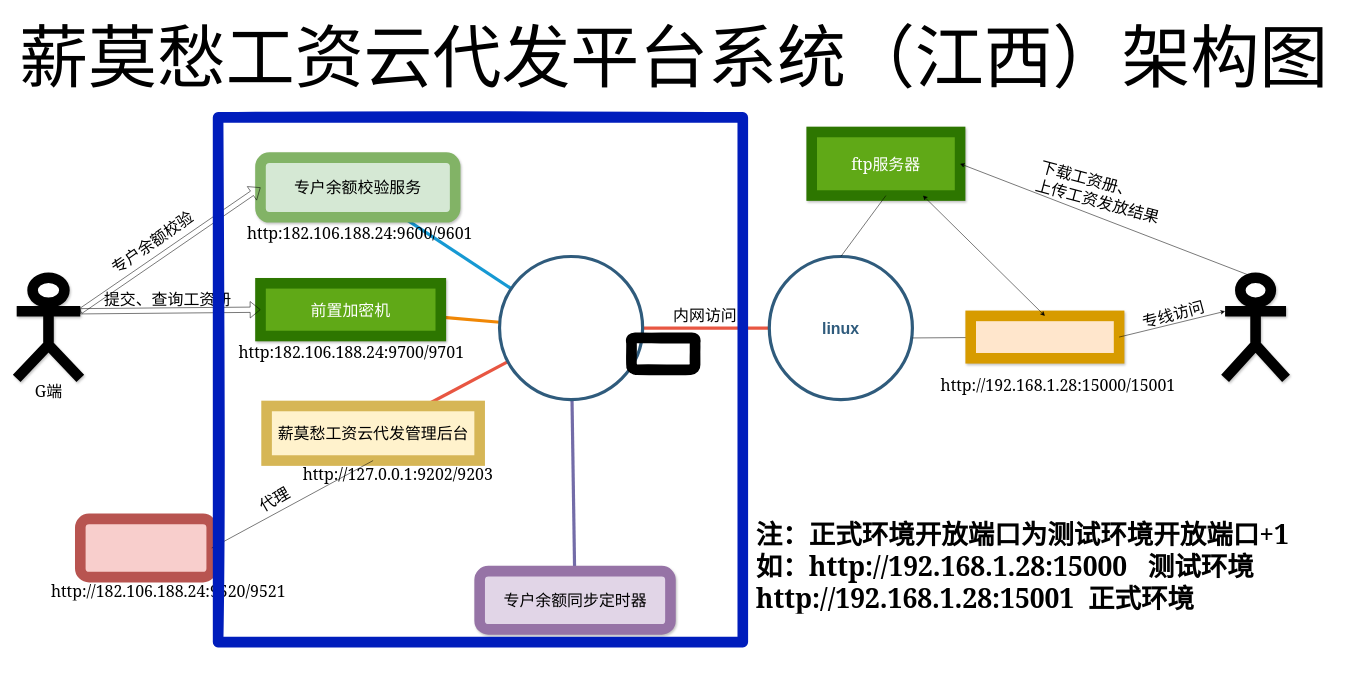
This 1354x674 diagram has some shape labels left out. Each missing label, with the centre of its shape:
bank: the point at 1255,328
bankapi: the point at 1045,337
nginx: the point at 146,547
windows服务器: the point at 571,328
